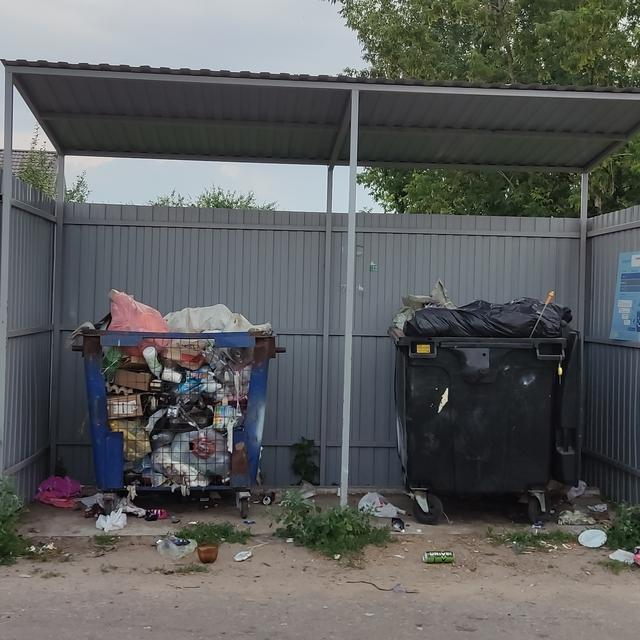Trash_Can_Full: (77, 288, 276, 494), (392, 279, 569, 493)
